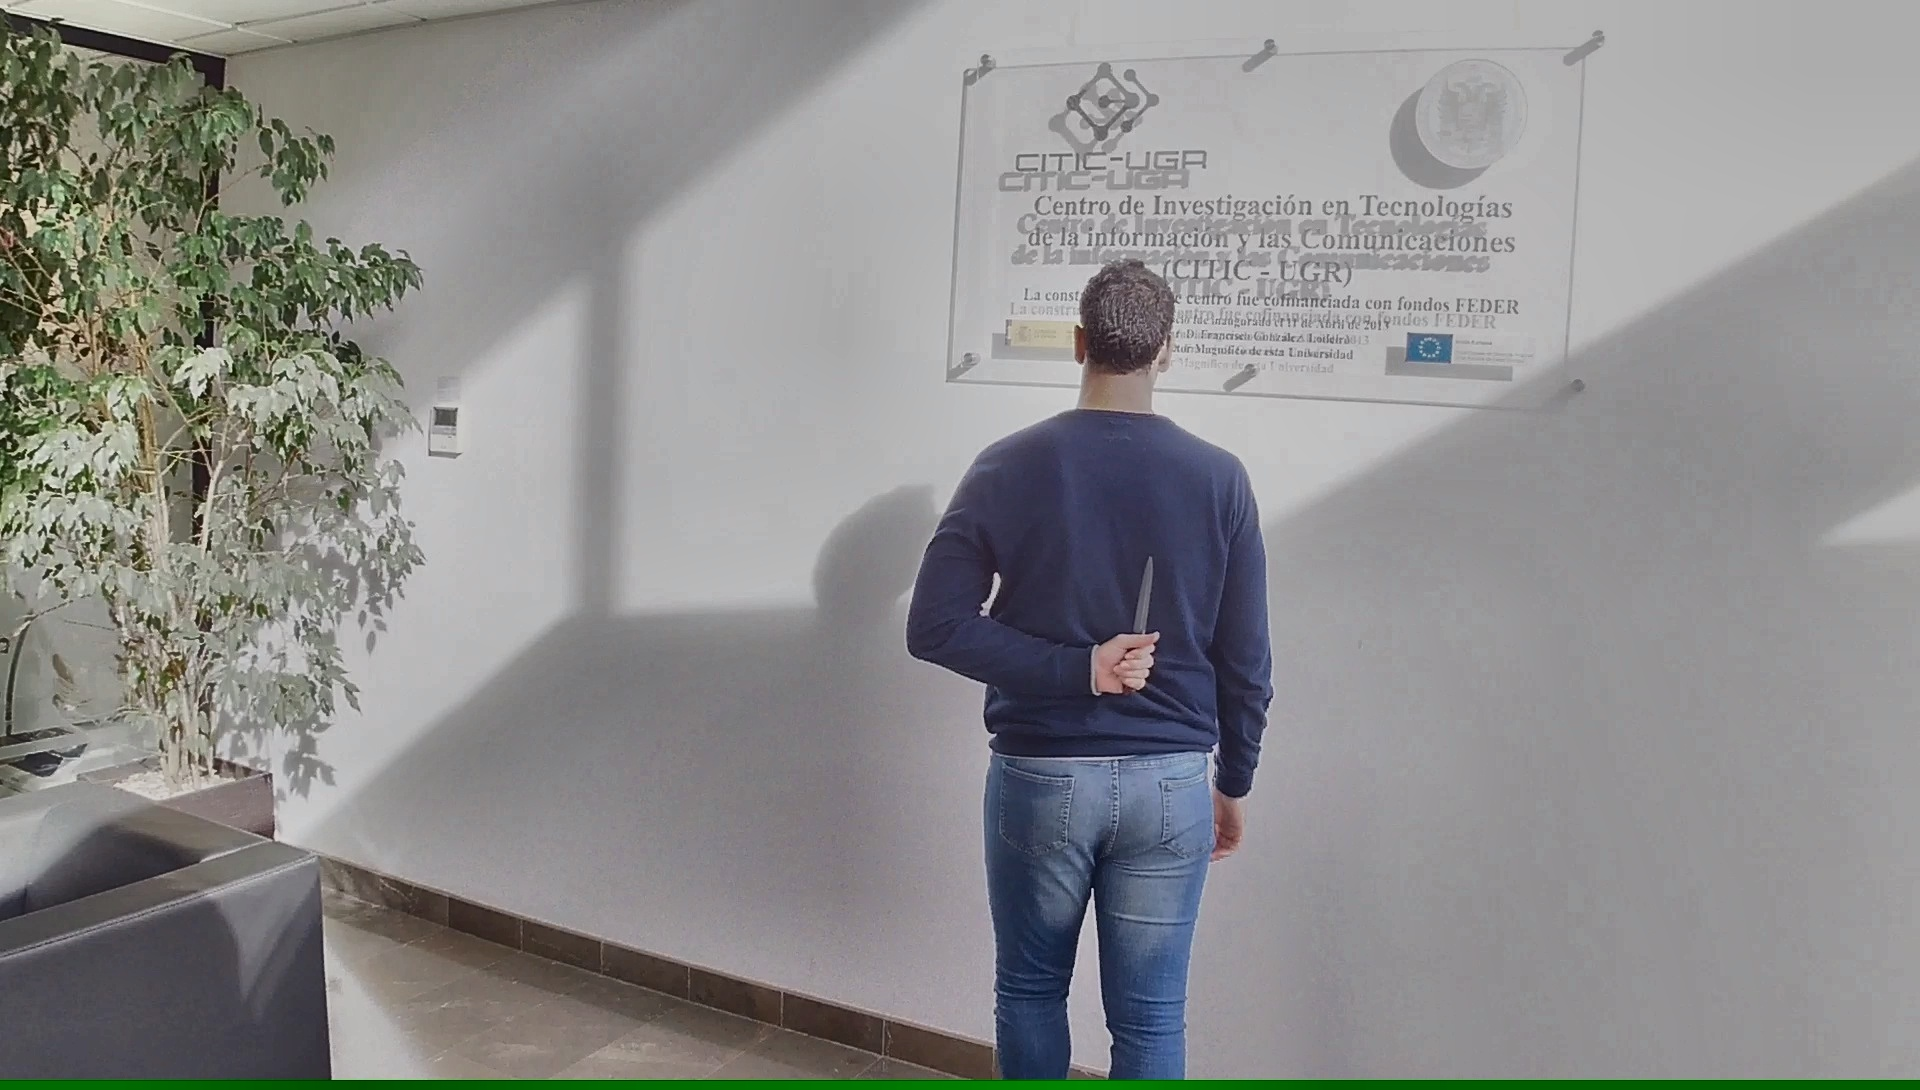knife: (1114, 546, 1166, 706)
